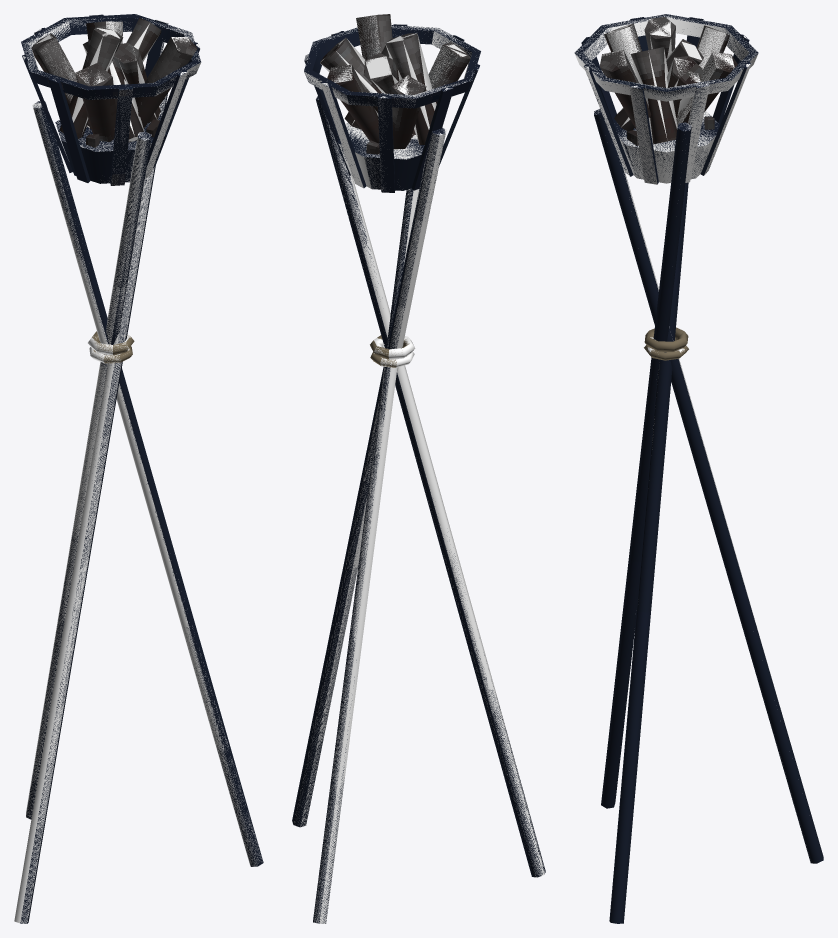
The model's file is objects_un_firetorch02.gltf.
The picture shows the model from 3 angles, left to right: view 1: azimuth 30°, elevation 25°; view 2: azimuth 150°, elevation 25°; view 3: azimuth 270°, elevation 25°; orthographic projection.
Visible parts, largest first — view 1: um_objects_un_firetorch02_model_objects_un_firetorch02_model (×3); view 2: um_objects_un_firetorch02_model_objects_un_firetorch02_model (×3); view 3: um_objects_un_firetorch02_model_objects_un_firetorch02_model (×3).
Part boxes in pixels (<box>): um_objects_un_firetorch02_model_objects_un_firetorch02_model (×3): <box>14,14,263,923</box>; um_objects_un_firetorch02_model_objects_un_firetorch02_model (×3): <box>292,14,545,923</box>; um_objects_un_firetorch02_model_objects_un_firetorch02_model (×3): <box>574,14,823,923</box>.
Bounding box in the file's own units: 0.9265 × 2.99 × 0.8032.
Materials: 3 (2 with a texture image).
